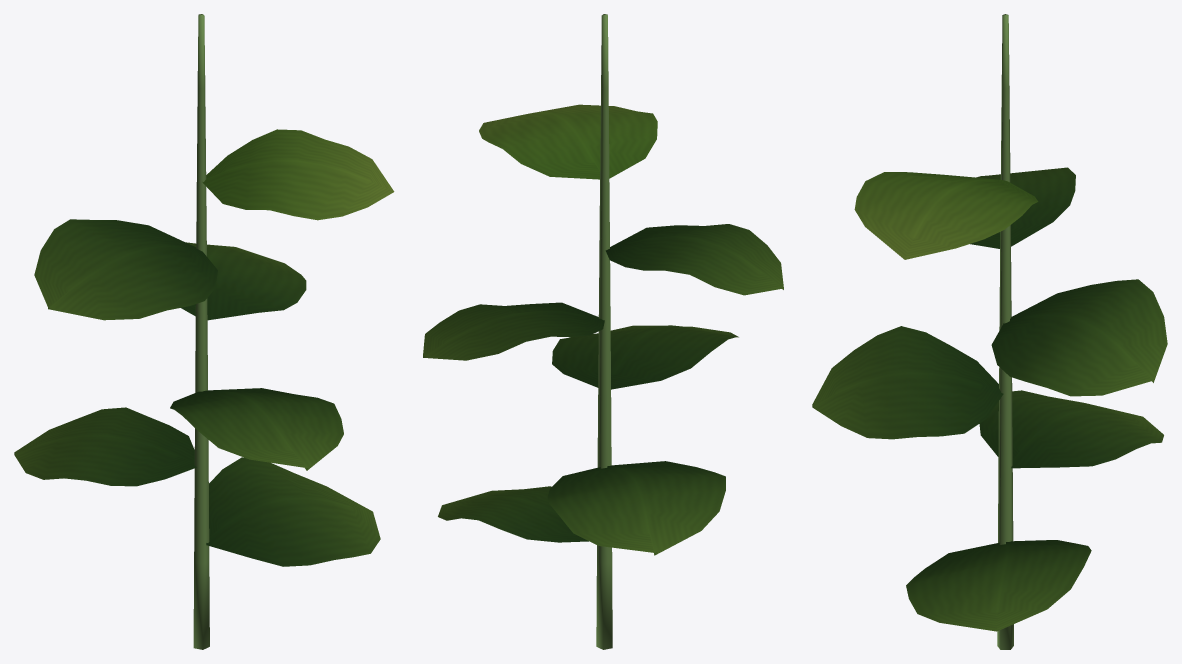
File: sunflower-05-lod.glb
3 views of the same model, side by side, from view 1: azimuth 30°, elevation 25°; view 2: azimuth 150°, elevation 25°; view 3: azimuth 270°, elevation 25° (orthographic).
Parts seen in each view (by area): view 1: sunflower_stage_05_leaf_veins.009, sunflower_stage_05_young_leaf.009, sunflower_stage_05_stem_fibres.009; view 2: sunflower_stage_05_leaf_veins.009, sunflower_stage_05_young_leaf.009, sunflower_stage_05_stem_fibres.009; view 3: sunflower_stage_05_leaf_veins.009, sunflower_stage_05_young_leaf.009, sunflower_stage_05_stem_fibres.009.
Part boxes in pixels (x1,y1,x2,y2): sunflower_stage_05_leaf_veins.009: (14,219,380,566); sunflower_stage_05_young_leaf.009: (202,129,394,220); sunflower_stage_05_stem_fibres.009: (193,14,209,649); sunflower_stage_05_leaf_veins.009: (423,224,783,555); sunflower_stage_05_young_leaf.009: (479,104,657,179); sunflower_stage_05_stem_fibres.009: (596,14,612,649); sunflower_stage_05_leaf_veins.009: (812,167,1167,631); sunflower_stage_05_young_leaf.009: (854,172,1038,259); sunflower_stage_05_stem_fibres.009: (997,14,1013,649).
Size of the model in its own units: 0.1753 by 0.3169 by 0.1616.
3 materials, 2 textured.
